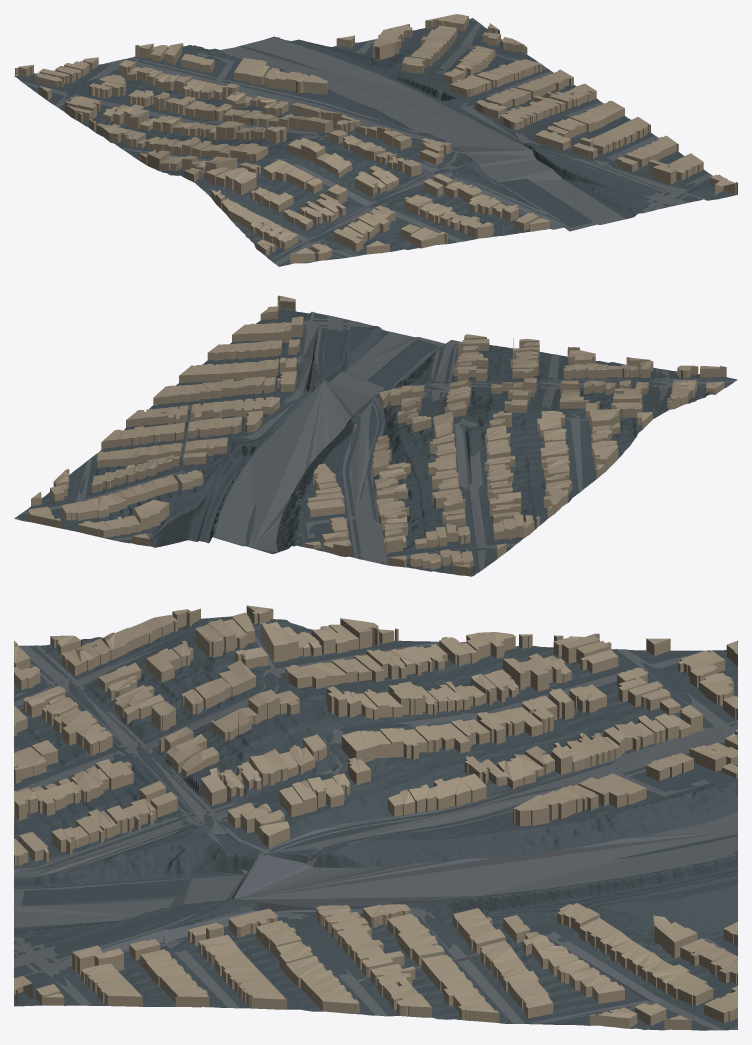
The model's file is epsg26910-1428-10871.lod0.glb.
3 views of the same model, one above another, from view 1: azimuth 30°, elevation 25°; view 2: azimuth 150°, elevation 25°; view 3: azimuth 270°, elevation 25° (orthographic). The views are drawn at different scales.
Parts seen in each view (by area): view 1: epsg26910-1428-10871-lod0; view 2: epsg26910-1428-10871-lod0; view 3: epsg26910-1428-10871-lod0.
Part boxes in pixels (x1,y1,x2,y2): epsg26910-1428-10871-lod0: [14, 14, 737, 266]; epsg26910-1428-10871-lod0: [14, 295, 737, 576]; epsg26910-1428-10871-lod0: [14, 605, 737, 1030].
Bounding box in the file's own units: 384 × 70.73 × 384.
